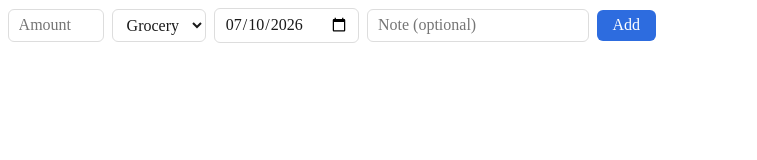
ExpenseEntryForm › surfaces a failed submit as an error and keeps the entered amount
Type "45" into the field labelled "Amount".
click(56, 25); type("45")  # box [8,9,104,42]
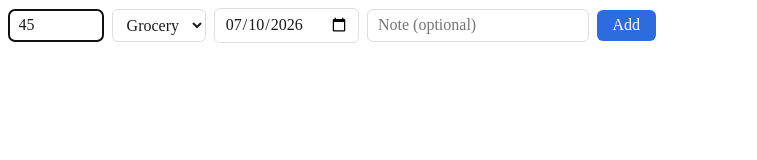
Click the button "Add".
click(626, 25)  # box [597,10,656,41]
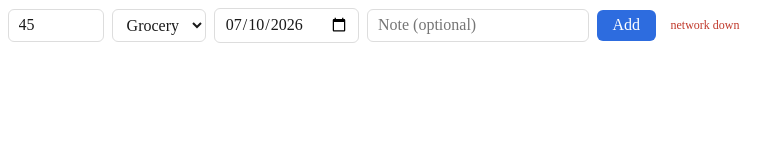
Expected: the text "network down" is shown, [670,18,740,33]
